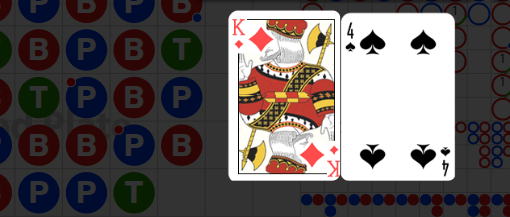4S: (438, 143, 451, 176)
KD: (230, 16, 245, 50)
